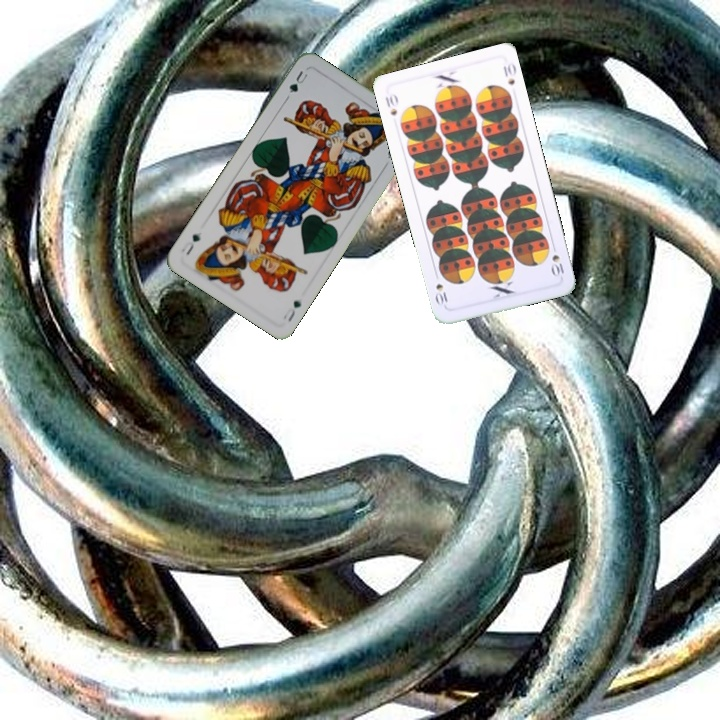GU: (285, 66, 311, 96), (279, 296, 304, 324)
S10: (547, 240, 567, 279), (381, 89, 401, 118)
